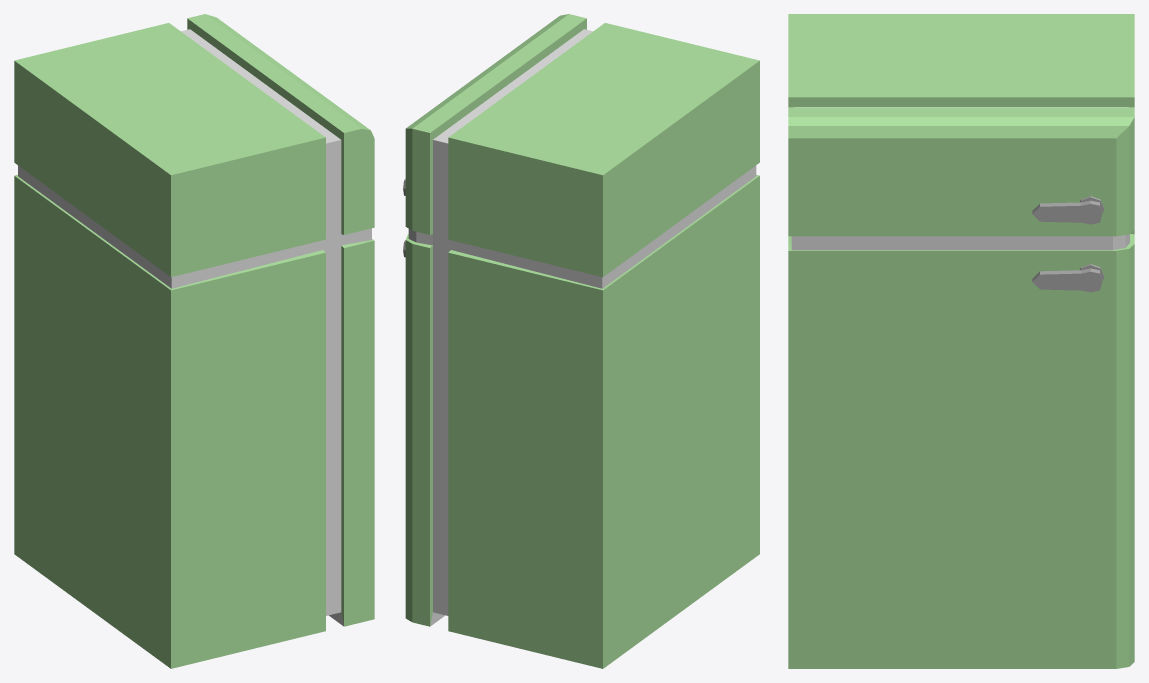
File: fridge.fbx
The picture shows the model from 3 angles, left to right: view 1: azimuth 30°, elevation 25°; view 2: azimuth 150°, elevation 25°; view 3: azimuth 270°, elevation 25°; orthographic projection. The views are drawn at different scales.
Visible parts, largest first — view 1: fridge; view 2: fridge; view 3: fridge, Handle, Handle.001.
Boxes of the visible parts, x1,y1,x2,y2 form: fridge: (14,14,374,668); fridge: (405,14,759,668); fridge: (788,14,1134,668); Handle: (1032,264,1104,292); Handle.001: (1032,196,1104,224).
Bounding box in the file's own units: 288 × 633 × 364.
